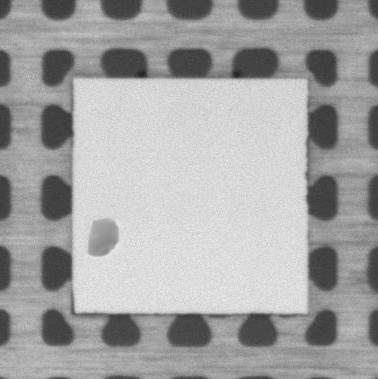DIE_INK: (85, 218, 120, 257)
